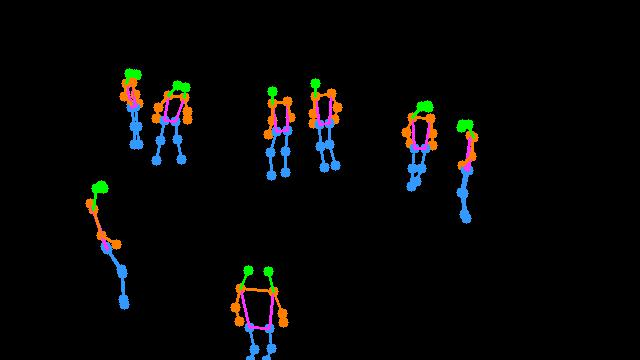normal: (227, 248, 297, 359), (389, 94, 446, 199), (303, 75, 353, 176), (146, 76, 197, 170), (260, 70, 295, 183), (120, 64, 150, 155)
